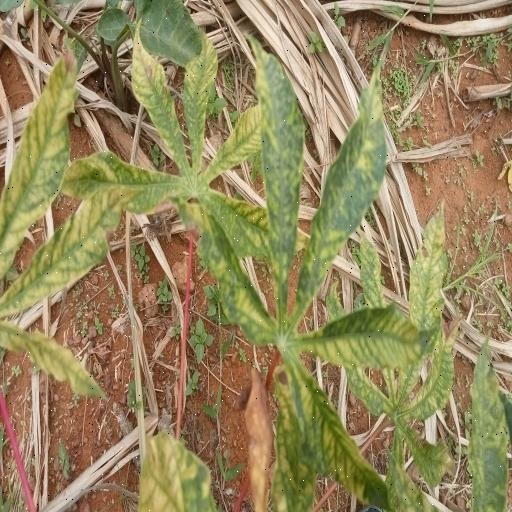Cassava_Mosaic: (172, 45, 434, 512), (53, 21, 316, 267), (328, 206, 460, 512)
